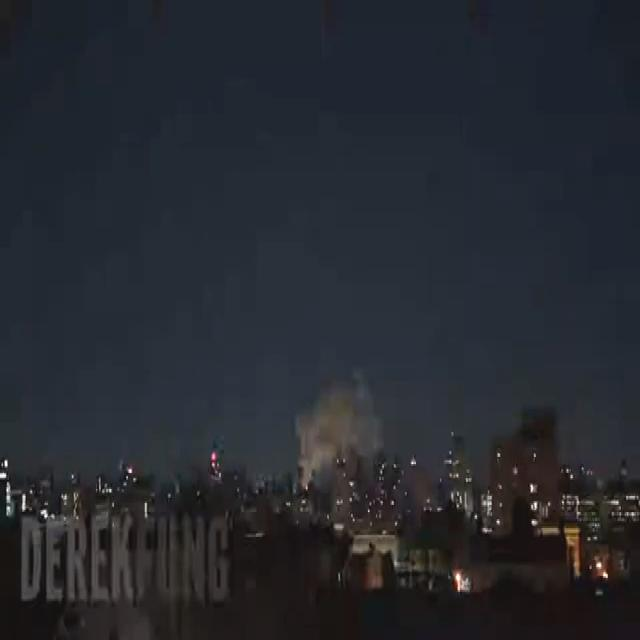smoke: (297, 376, 382, 482)
